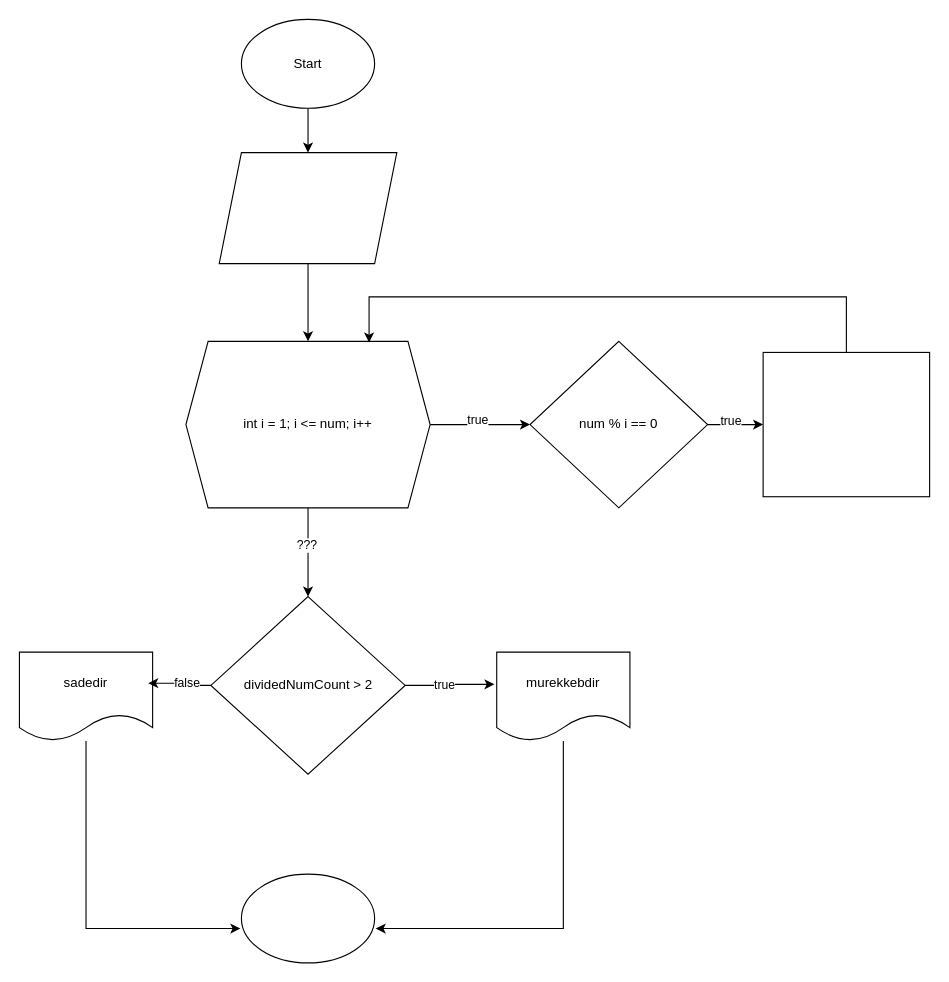
Image size: 949x982. Some labels were removed from this diagram. Here are the shapes that lost their labels. From the top down, the centre of each, then its label:
At (307,208): "int num int dividedNumCount".
At (846,424): "dividedNumCount++".
At (307,918): "End".
